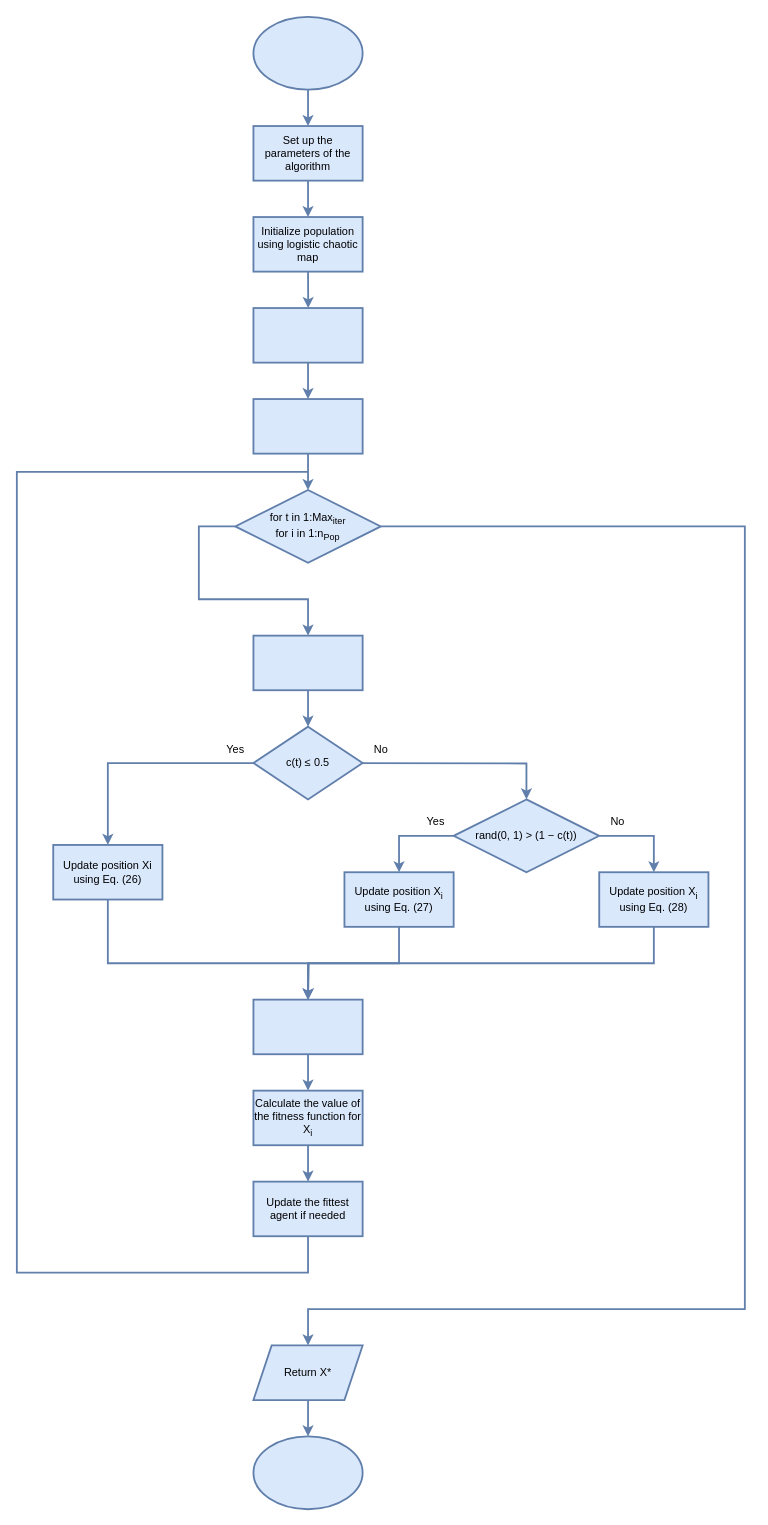
The diagram is 768 pixels wide and 1525 high, and some of its shapes have lost their labels. Here are the shapes that lost their labels. From the top down, the box of each, then its label:
(252, 15, 363, 90): Start
(252, 307, 363, 363): Calculate the value of the fitness function for each agent
(252, 398, 363, 454): Record the fittest agent as X*
(252, 634, 363, 691): Calculate time control c(t) using Eq. (31)
(252, 998, 363, 1055): Check boundary conditions using Eq. (33)
(252, 1435, 363, 1510): Stop
